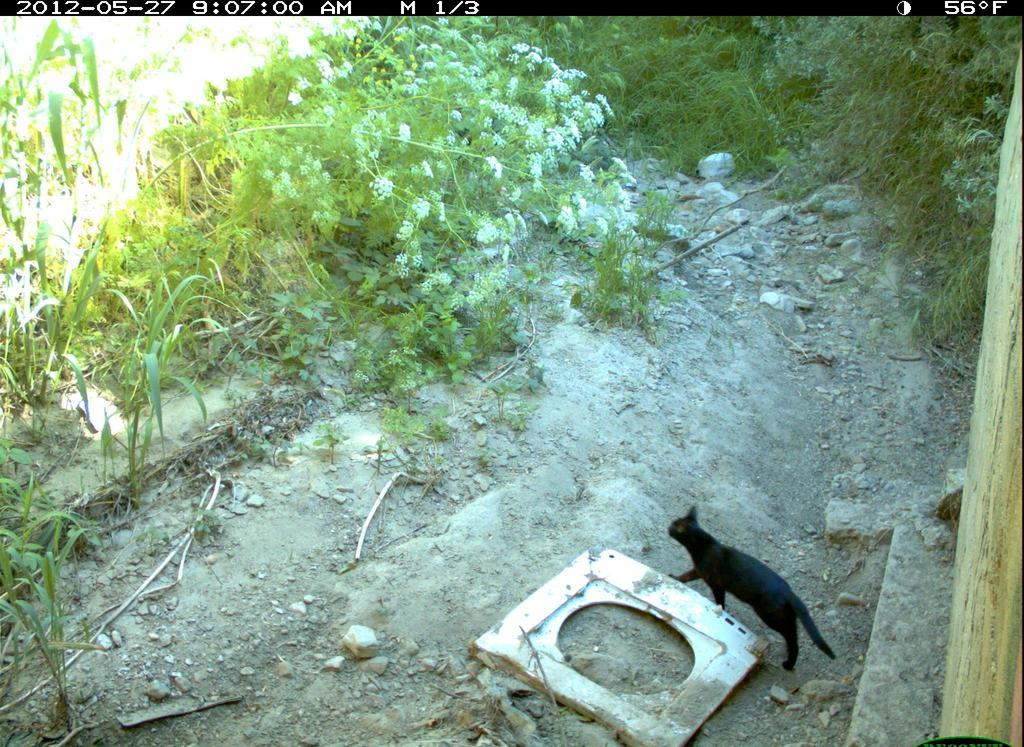cat: (655, 497, 845, 687)
